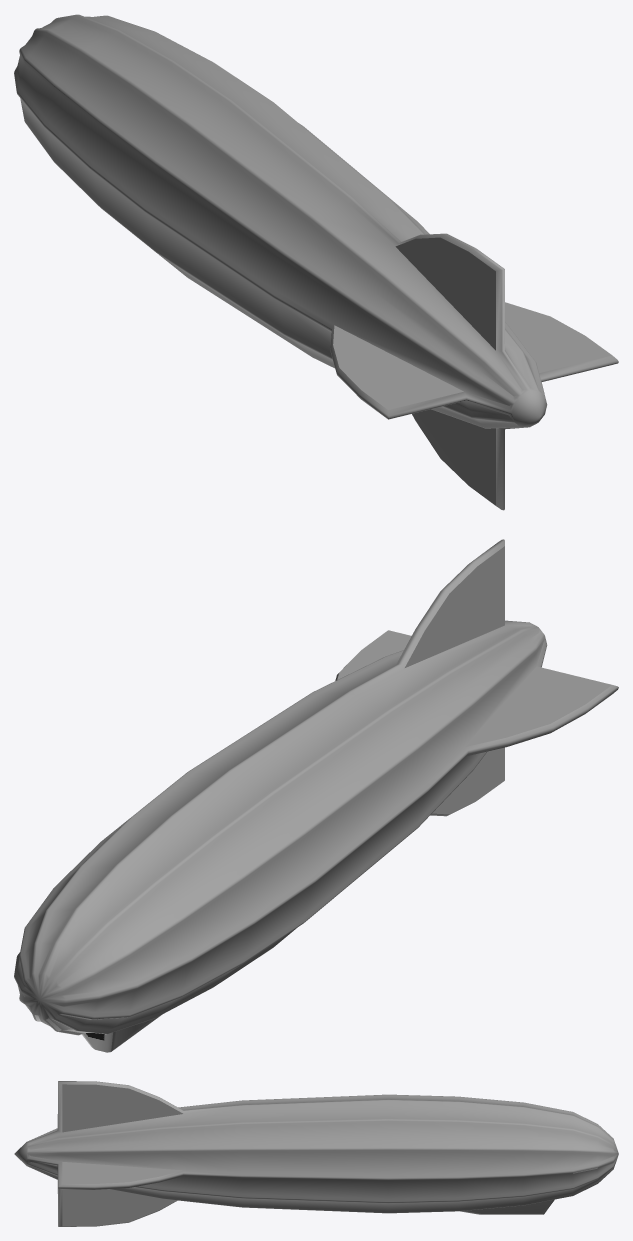
The model's file is HydrogenObject.DAE.
3 renders of one model, top to bottom at view 1: azimuth 30°, elevation 25°; view 2: azimuth 150°, elevation 25°; view 3: azimuth 270°, elevation 25°, orthographic. The views are drawn at different scales.
Visible parts, largest first — view 1: Capsule001; view 2: Capsule001; view 3: Capsule001.
Boxes of the visible parts, x1,y1,x2,y2 form: Capsule001: [14, 14, 618, 510]; Capsule001: [14, 539, 618, 1052]; Capsule001: [14, 1081, 618, 1226].
Bounding box in the file's own units: 3.96 × 14.95 × 3.96.
Materials: 1 (1 with a texture image).
